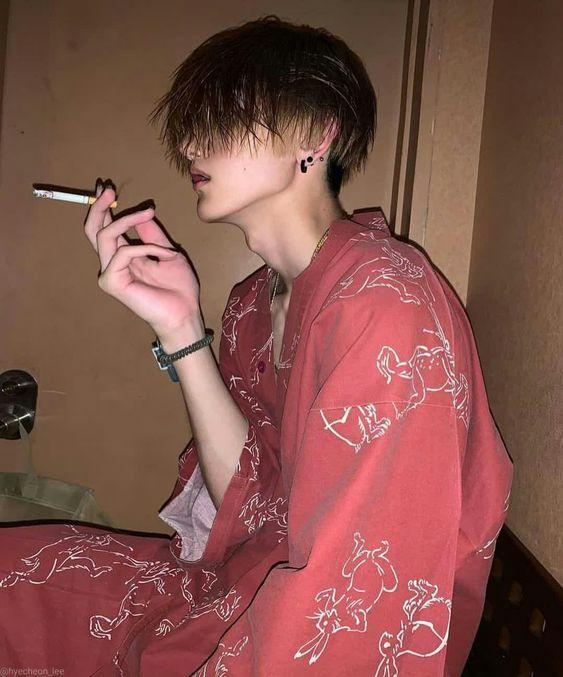cigarette: (32, 185, 115, 211)
